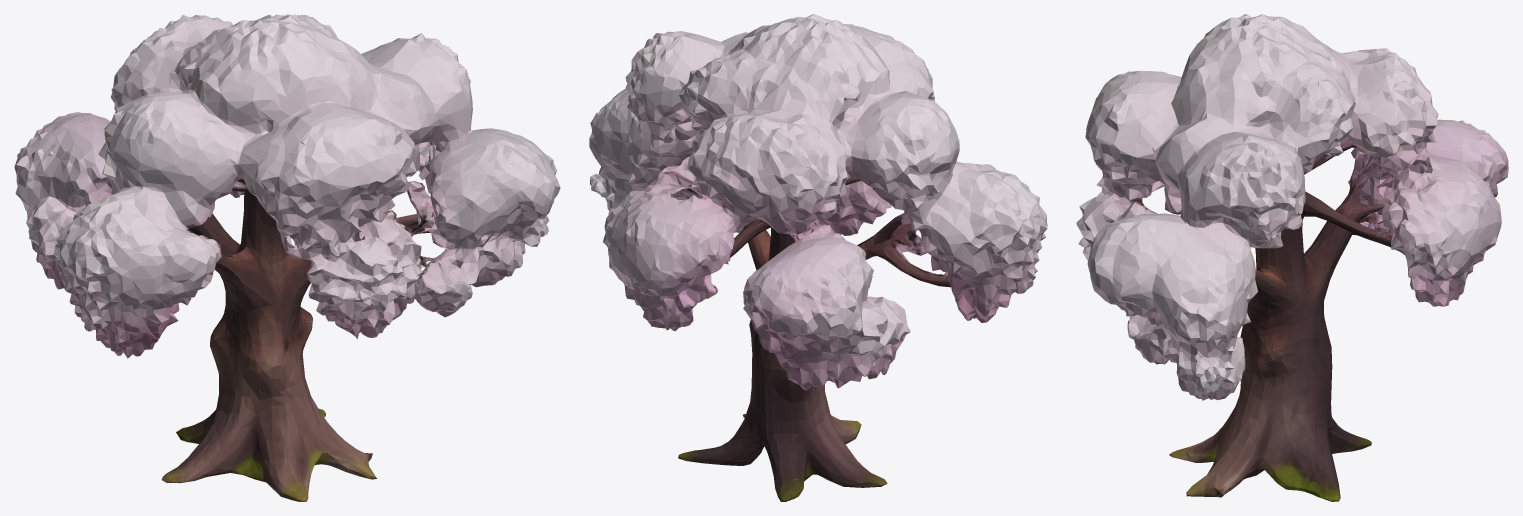
File: sakura.fbx
3 renders of one model, left to right at view 1: azimuth 30°, elevation 25°; view 2: azimuth 150°, elevation 25°; view 3: azimuth 270°, elevation 25°, orthographic. The views are drawn at different scales.
Parts seen in each view (by area): view 1: geometry_0; view 2: geometry_0; view 3: geometry_0.
Boxes of the visible parts, box(x1,y1,x2,y2) form: geometry_0: box(14, 14, 560, 501); geometry_0: box(589, 14, 1047, 501); geometry_0: box(1076, 14, 1508, 501).
Bounding box in the file's own units: 0.9833 × 0.8988 × 0.7956.
Materials: 1 (1 with a texture image).
